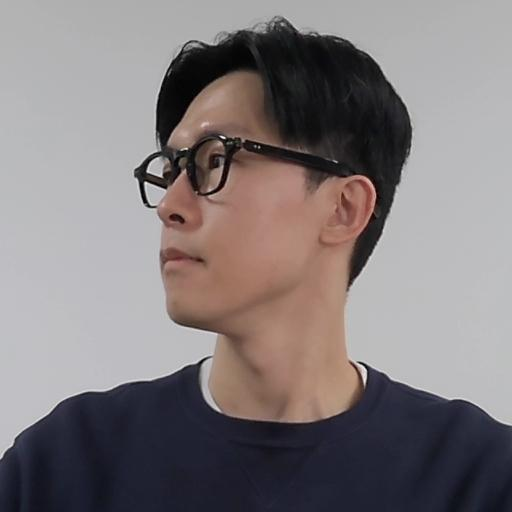no_glasses: (124, 30, 421, 355)
